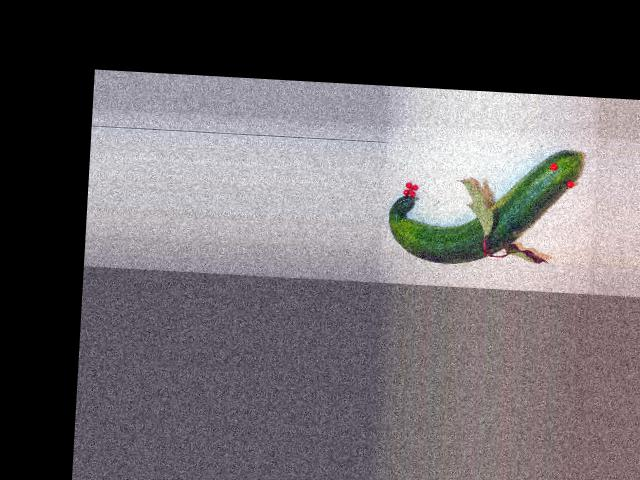cucumber: (386, 140, 582, 270)
